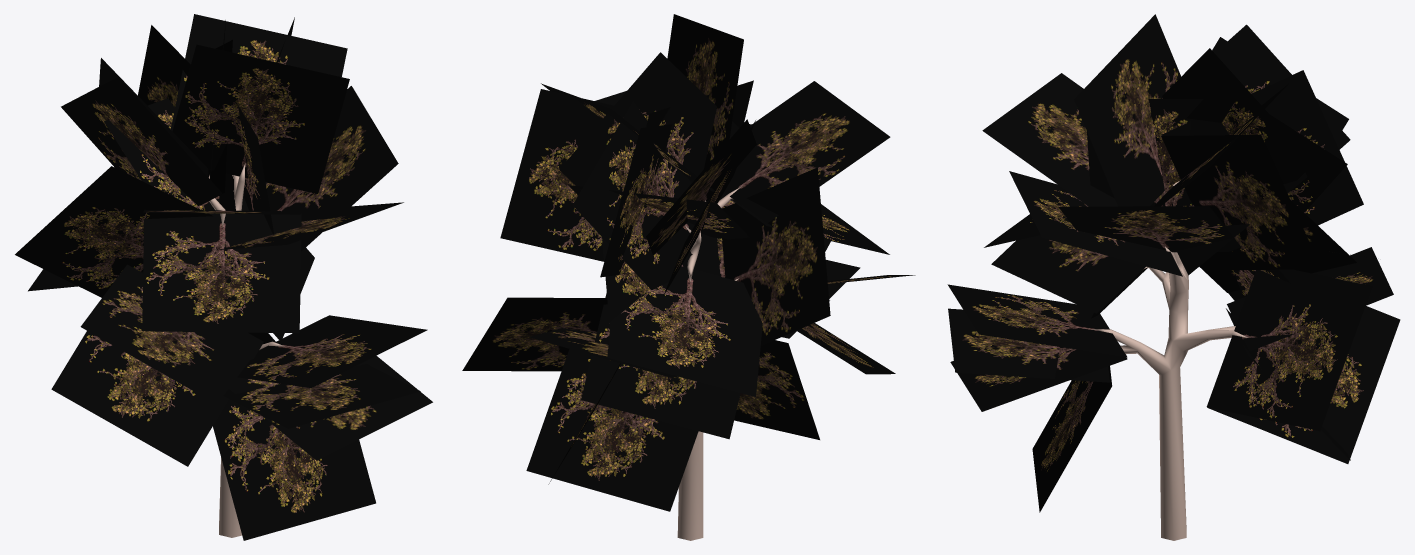
File: tree3.glb
3 renders of one model, left to right at view 1: azimuth 30°, elevation 25°; view 2: azimuth 150°, elevation 25°; view 3: azimuth 270°, elevation 25°, orthographic.
Bounding box in the file's own units: 5.15 × 7.07 × 5.82.
Materials: 2 (1 with a texture image).
